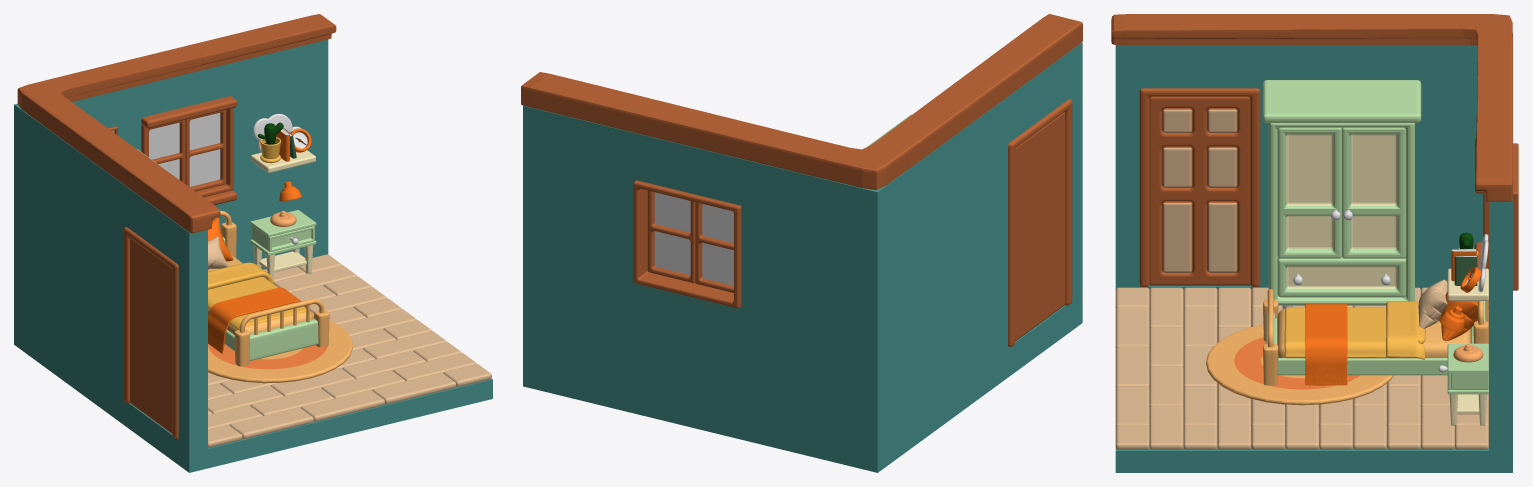
File: badroom.fbx
The picture shows the model from 3 angles, left to right: view 1: azimuth 30°, elevation 25°; view 2: azimuth 150°, elevation 25°; view 3: azimuth 270°, elevation 25°; orthographic projection. The views are drawn at different scales.
Parts seen in each view (by area): view 1: Cube, Cube.001, Cube.013, Cube.012, Cube.017, Circle.006, Cube.011, Plane.002, Plane.003, Cube.004, Cube.002, Cube.016 (+9 smaller); view 2: Cube, Cube.013, Cube.012, Cube.017, Cube.015, Cube.011; view 3: Cube, Cube.001, Plane.016, Cube.012, Cube.013, Plane.015, Circle.006, Plane.002, Cube.011, Plane.003, Plane, Cube.002 (+13 smaller).
Boxes of the visible parts, x1,y1,x2,y2 form: Cube: [14, 39, 492, 472]; Cube.001: [208, 254, 491, 447]; Cube.013: [17, 14, 336, 233]; Cube.012: [130, 238, 172, 433]; Cube.017: [148, 110, 226, 191]; Circle.006: [208, 314, 352, 383]; Cube.011: [123, 227, 178, 438]; Plane.002: [208, 262, 313, 329]; Plane.003: [208, 287, 306, 353]; Cube.004: [223, 237, 318, 360]; Cube.002: [221, 222, 329, 366]; Cube.016: [141, 96, 237, 128]; Cube: [523, 42, 1082, 472]; Cube.013: [521, 14, 1082, 190]; Cube.012: [1015, 112, 1065, 340]; Cube.017: [647, 190, 733, 292]; Cube.015: [633, 180, 741, 308]; Cube.011: [1008, 99, 1072, 346]; Cube: [1115, 45, 1512, 472]; Cube.001: [1115, 287, 1488, 449]; Plane.016: [1277, 127, 1405, 297]; Cube.012: [1149, 96, 1250, 285]; Cube.013: [1111, 14, 1512, 201]; Plane.015: [1262, 80, 1421, 305]; Circle.006: [1206, 324, 1393, 405]; Plane.002: [1284, 301, 1425, 359]; Cube.011: [1139, 88, 1260, 286]; Plane.003: [1305, 304, 1347, 385]; Plane: [1275, 318, 1473, 375]; Cube.002: [1263, 300, 1488, 385].
Bounding box in the file's own units: 868 × 691 × 874.
